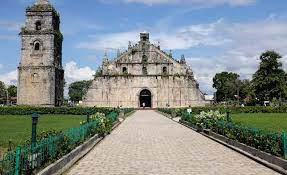paoay_church_paoay_ilocos_norte: (14, 1, 216, 114)
